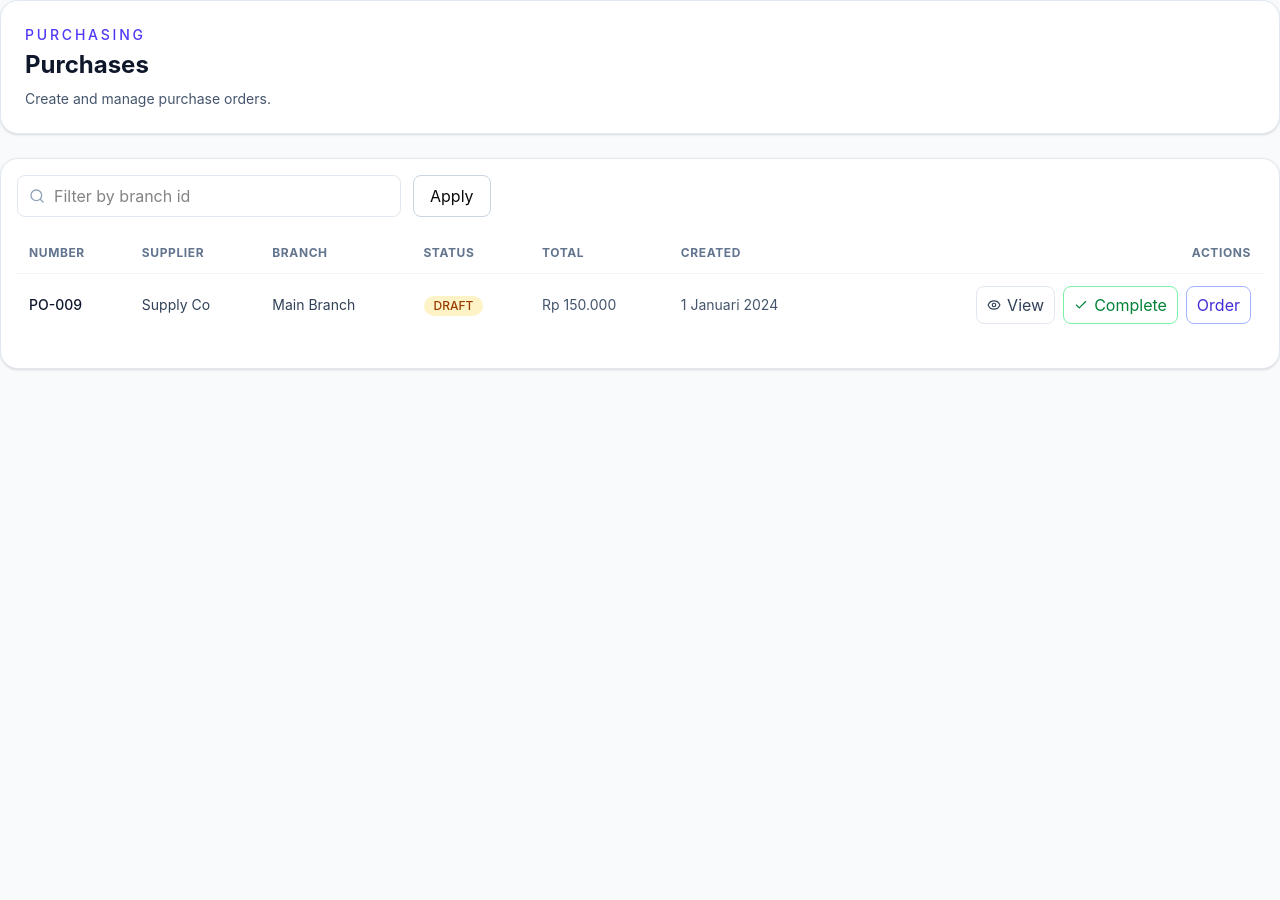
PurchasesPage › asks for confirmation before completing a purchase
Check: the text "PO-009" is shown, box 17,274 -> 130,336
Click the button "Complete". click: click(1121, 305)
box: 1063,286 -> 1178,324
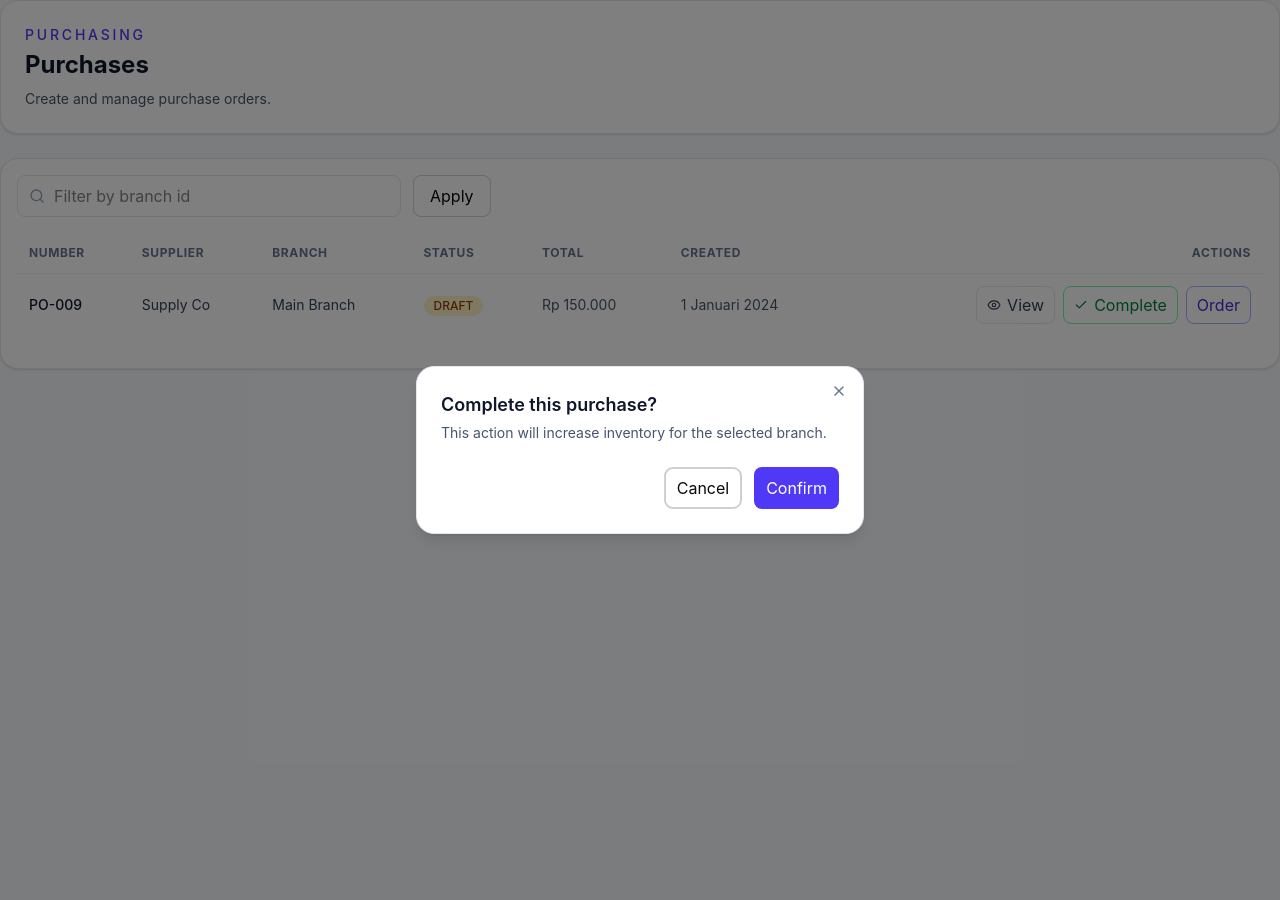
Click the button "Confirm". click: click(797, 488)
box: 754,467 -> 839,509
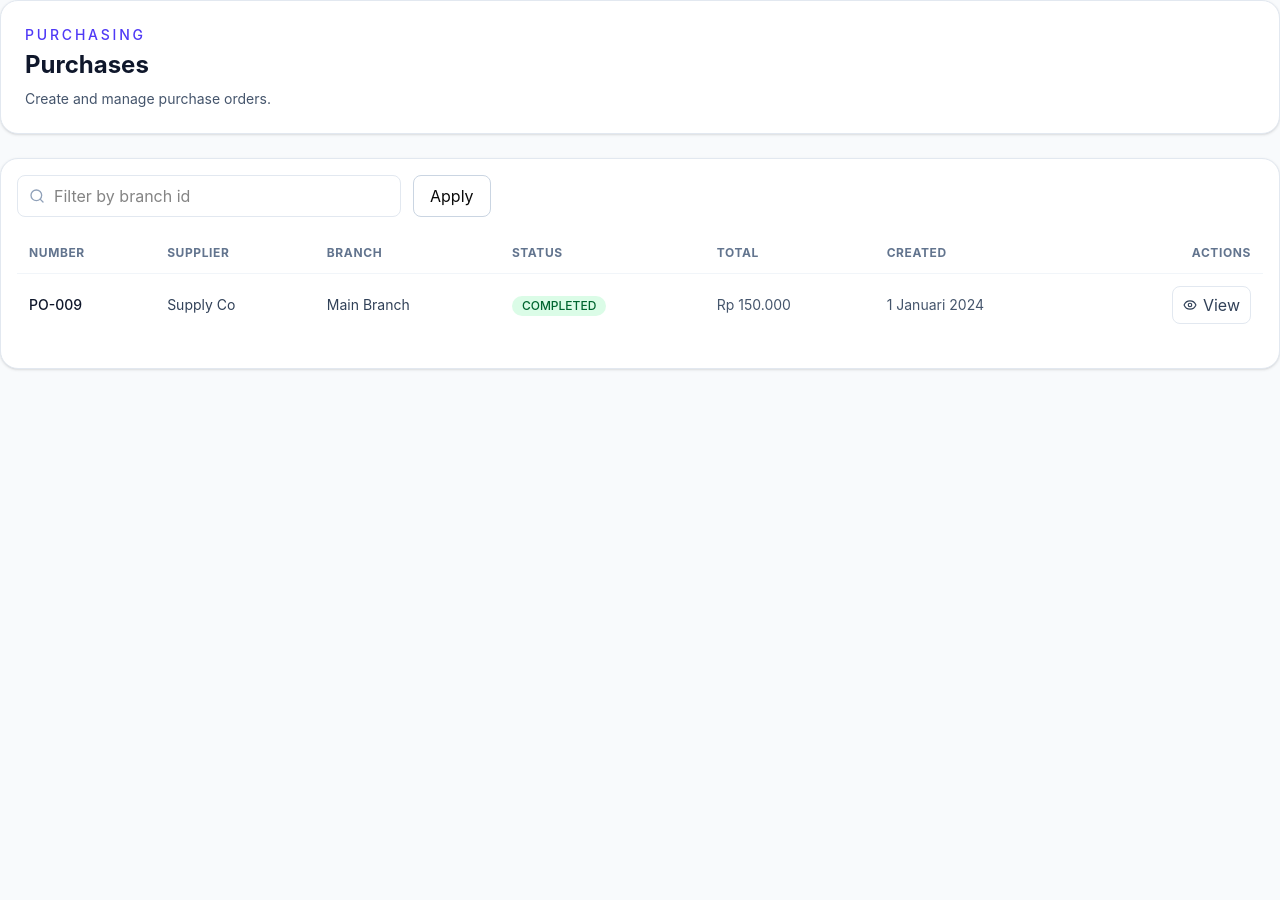
Check: the text "COMPLETED" is shown, box 512,296 -> 606,316
